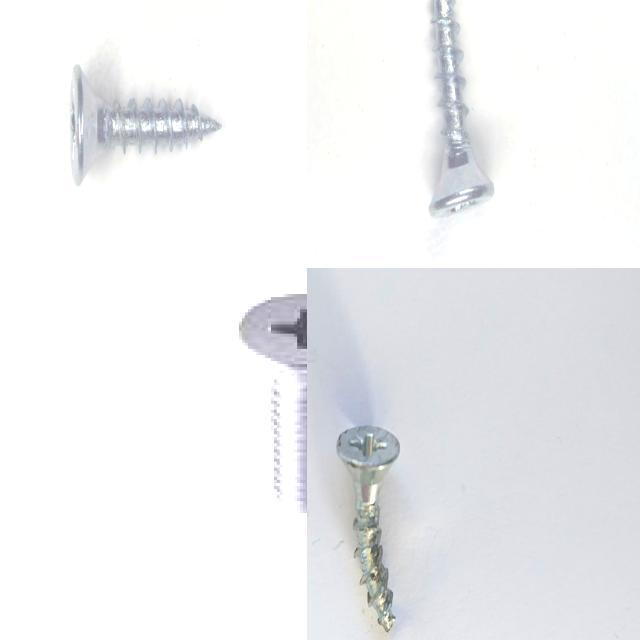Screw: (70, 64, 221, 185), (239, 294, 307, 513), (429, 0, 495, 217), (337, 425, 400, 632)
